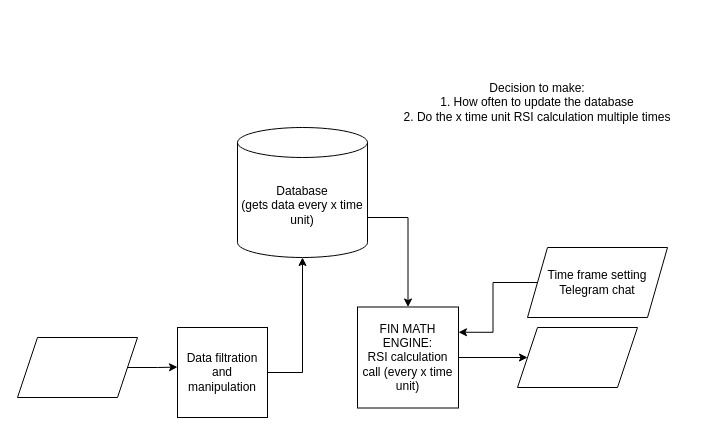
The diagram is 715 pixels wide and 435 high, and some of its shapes have lost their labels. Here are the shapes that lost their labels. From the top down, the centre of each, then its label:
point (77, 367): INPUT: Binance
point (577, 357): OUTPUT: Telegram chat
